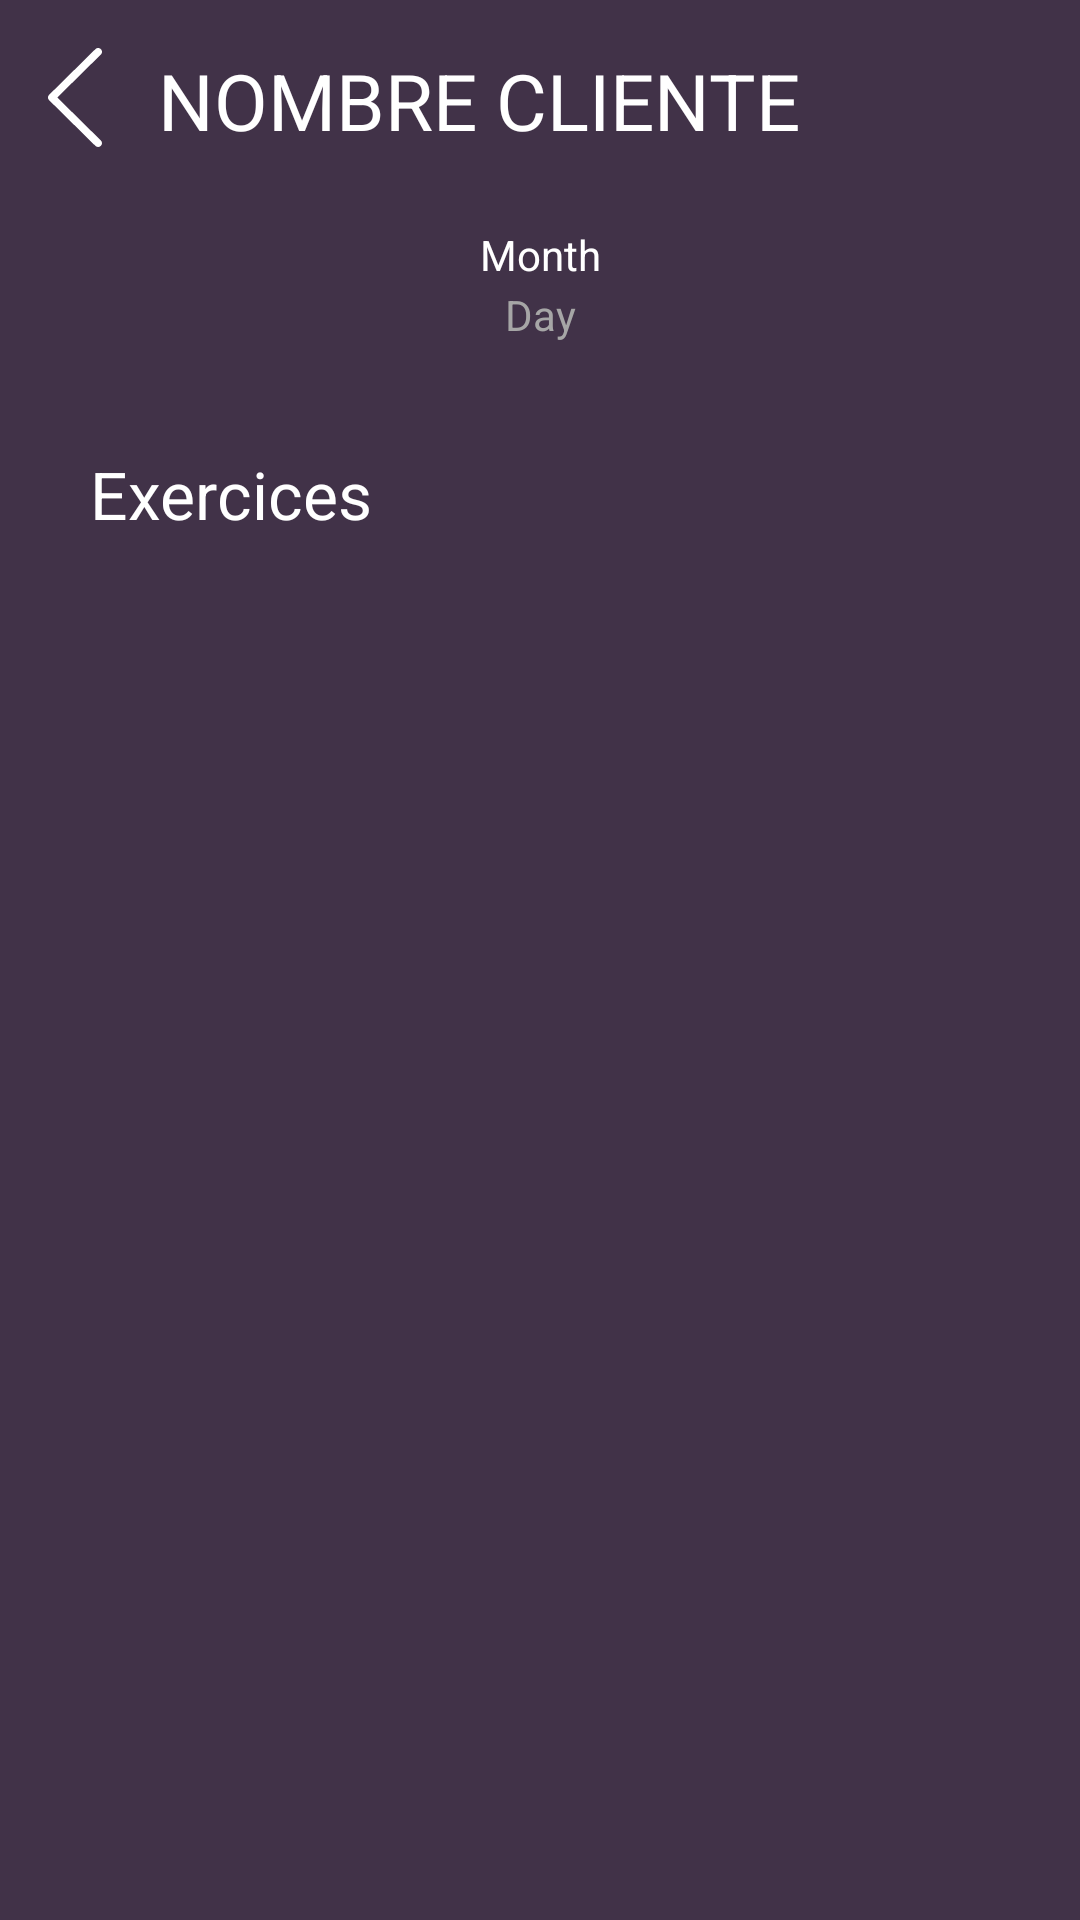

Point at icon controls on the screen. Image size 1080 × 1920, points as [x,y].
back: [75,97]
